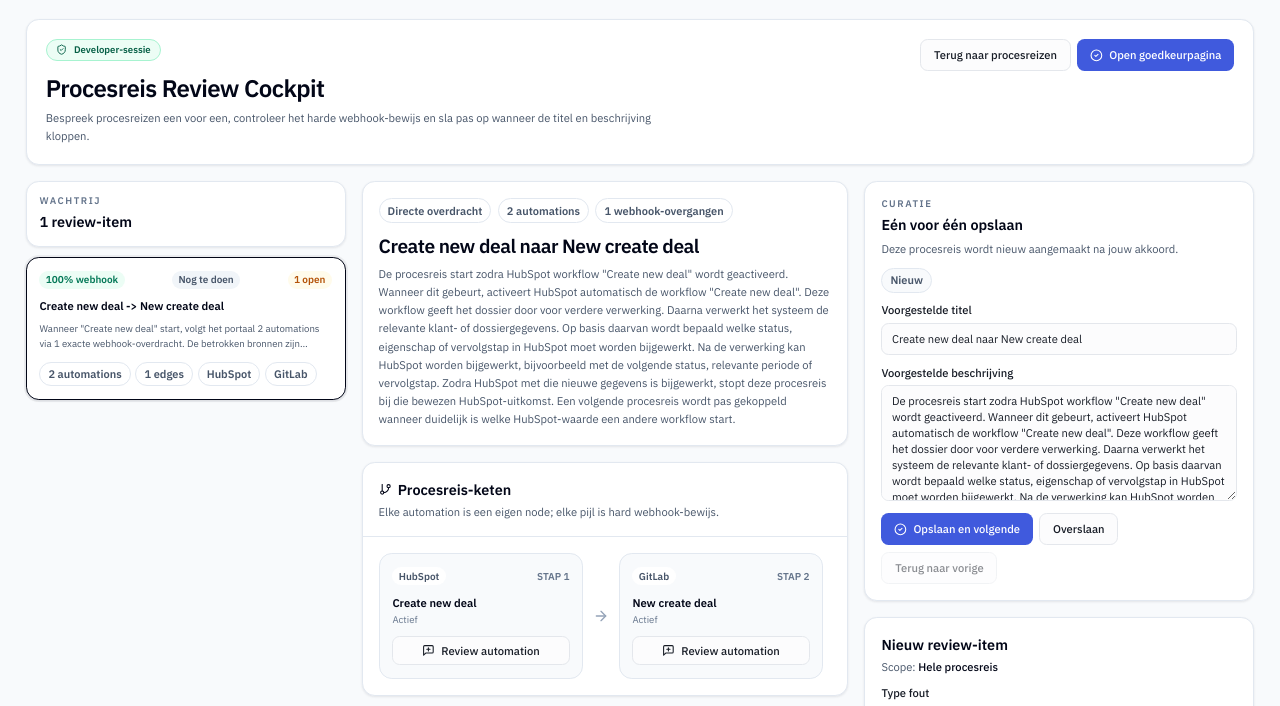
Scenario: ProcessJourneyReview page › saves the selected concept directly and advances to the next review item
Replace the text in the field labelled "Voorgestelde titel" with "Create new deal naar backend" at (1059, 339), box [881, 323, 1237, 355]
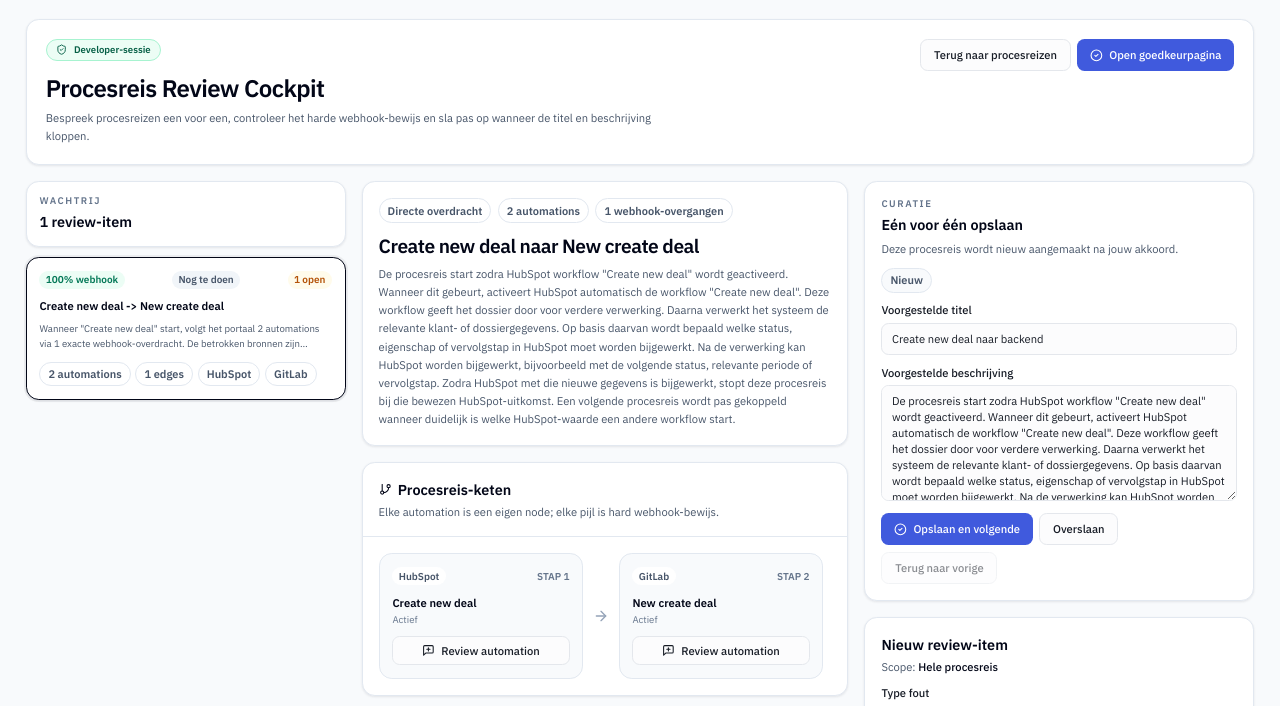
Replace the text in the text box labelled "Voorgestelde beschrijving" with "HubSpot geeft het nieuwe deal-signaal door aan de backend." at (1059, 443), box [881, 385, 1237, 500]
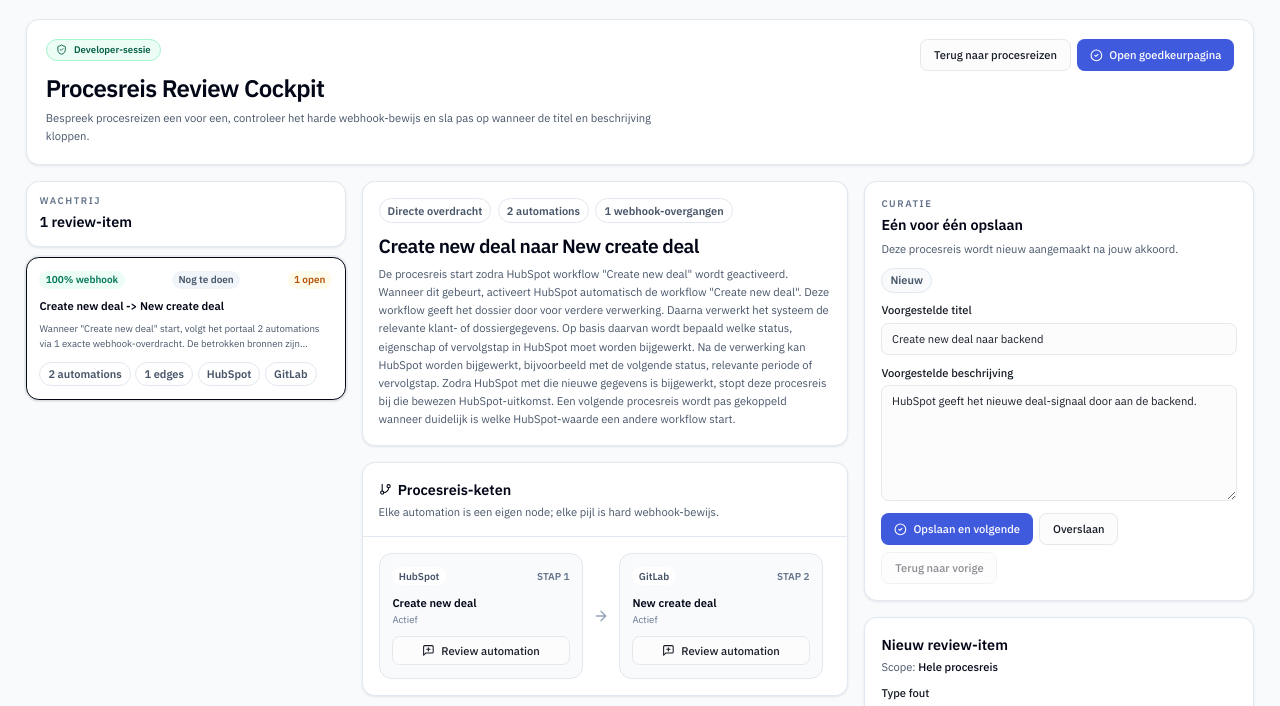
Click the button "Opslaan en volgende" at (957, 529), box [881, 513, 1033, 545]
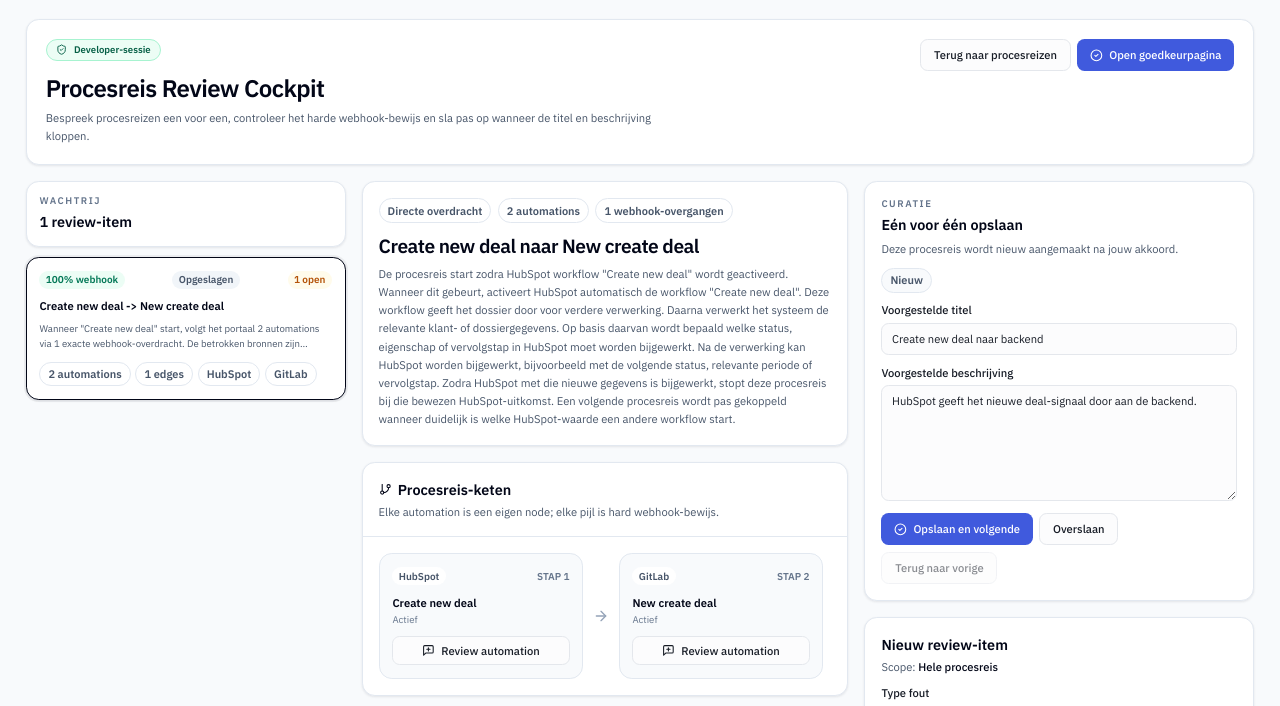
Check: the text "Opgeslagen" is shown, box [172, 271, 240, 289]
